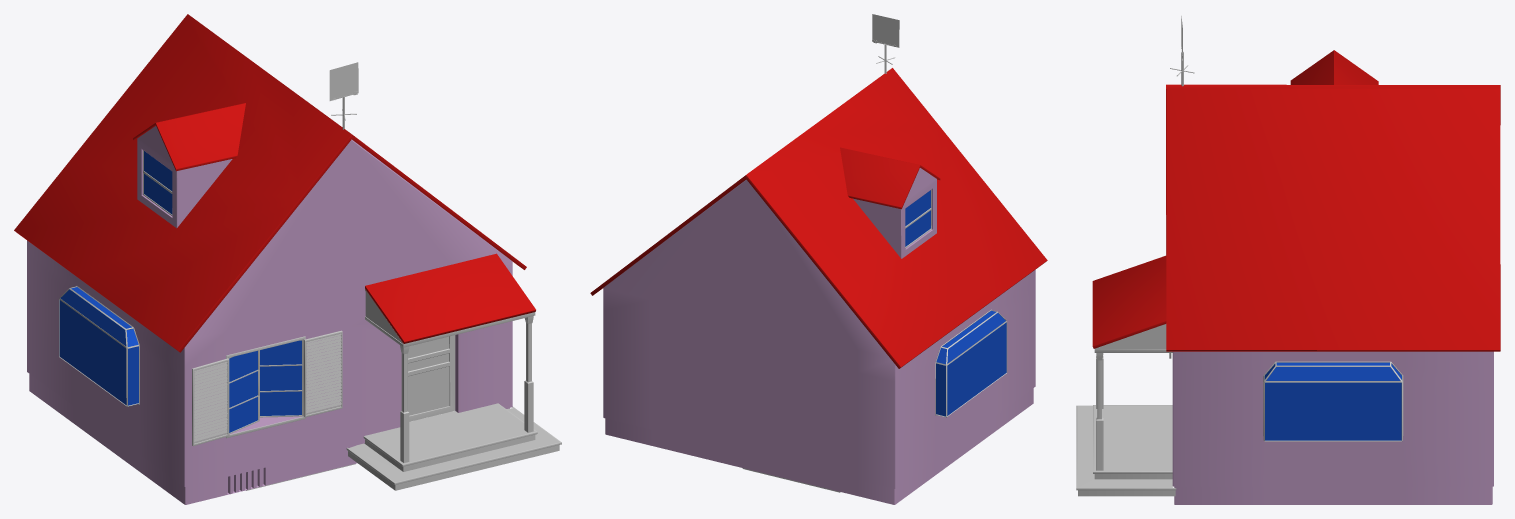
Rendered from kame.obj.
3 views of the same model, side by side, from view 1: azimuth 30°, elevation 25°; view 2: azimuth 150°, elevation 25°; view 3: azimuth 270°, elevation 25° (orthographic). The views are drawn at different scales.
Parts seen in each view (by area): view 1: house_Cube.001, roof_Cube.002, stairs_Plane, stairs_roof.001_Plane.004, window_left_Cube.006, shutters_Cube.004, window_front_Cube.003, roof_room_Cube.005, door_Cube.011, room_roof_Cube.012, collumns_Cube.008, window_roof_Cube.009 (+3 smaller); view 2: house_Cube.001, roof_Cube.002, window_left_Cube.006, roof_room_Cube.005, room_roof_Cube.012, window_roof_Cube.009, wind_gauge_Cylinder.104; view 3: roof_Cube.002, house_Cube.001, window_right_Cube.007, stairs_Plane, stairs_roof.001_Plane.004, roof_room_Cube.005, stairs_roof_Plane.001, collumns_Cube.008.
Part boxes in pixels (x1,y1,x2,y2): house_Cube.001: (27,139,512,504); roof_Cube.002: (14,14,526,352); stairs_Plane: (346,403,561,490); stairs_roof.001_Plane.004: (365,253,535,343); window_left_Cube.006: (59,286,139,406); shutters_Cube.004: (192,330,342,446); window_front_Cube.003: (228,339,303,434); roof_room_Cube.005: (133,103,245,171); door_Cube.011: (408,335,455,421); room_roof_Cube.012: (137,126,232,228); collumns_Cube.008: (400,316,533,462); window_roof_Cube.009: (143,150,172,215); house_Cube.001: (603,179,1035,504); roof_Cube.002: (590,68,1047,368); window_left_Cube.006: (935,309,1007,417); roof_room_Cube.005: (840,147,940,209); room_roof_Cube.012: (853,168,936,258); window_roof_Cube.009: (905,189,931,247); wind_gauge_Cylinder.104: (872,14,899,73); roof_Cube.002: (1166,84,1500,351); house_Cube.001: (1172,351,1493,504); window_right_Cube.007: (1263,361,1403,441); stairs_Plane: (1076,405,1176,496); stairs_roof.001_Plane.004: (1092,255,1166,348); roof_room_Cube.005: (1290,50,1378,84); stairs_roof_Plane.001: (1094,324,1172,352); collumns_Cube.008: (1096,353,1103,470).
Bounding box in the file's own units: 6.47 × 7.73 × 6.6.
